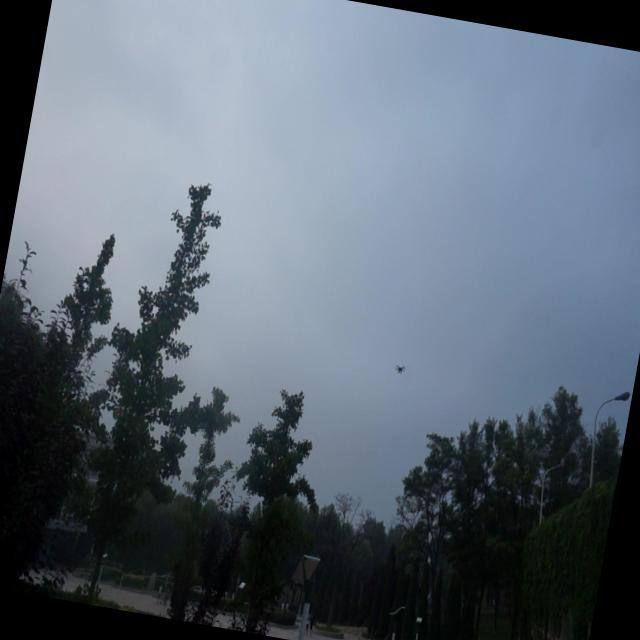drone: (391, 360, 407, 378)
